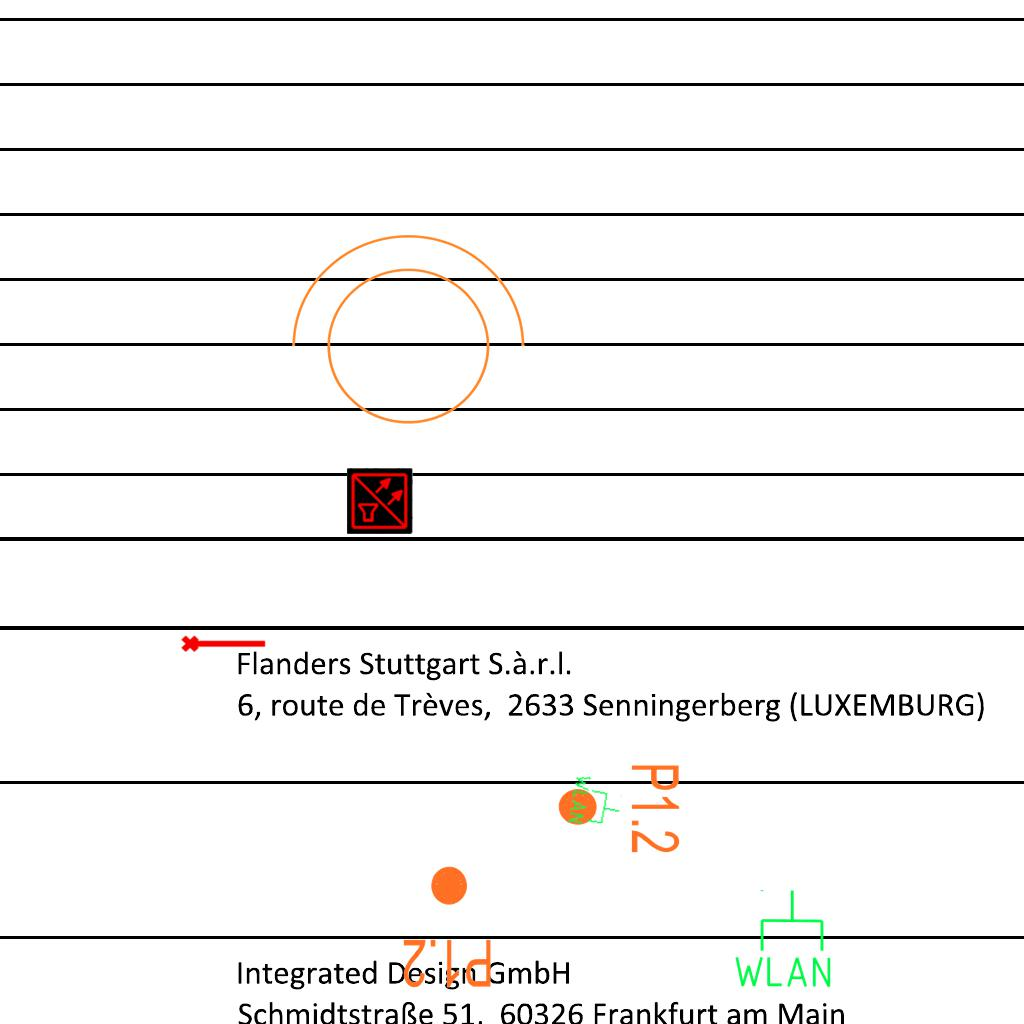ASR_Ansaugoeffnung: (180, 631, 268, 654)
Downlight_LED_Einbauleuchten_Flur: (401, 863, 494, 991), (555, 762, 683, 855)
OKW_Multisensormelder_(Kombination_optischer_Rauch-Kahlenmonoxid_Waerme-Melder): (347, 468, 413, 534)
Scheinwerfer_fuer_Alarmbeleuchtung: (270, 224, 534, 449)
WLAN: (730, 887, 835, 991), (565, 771, 627, 833)
